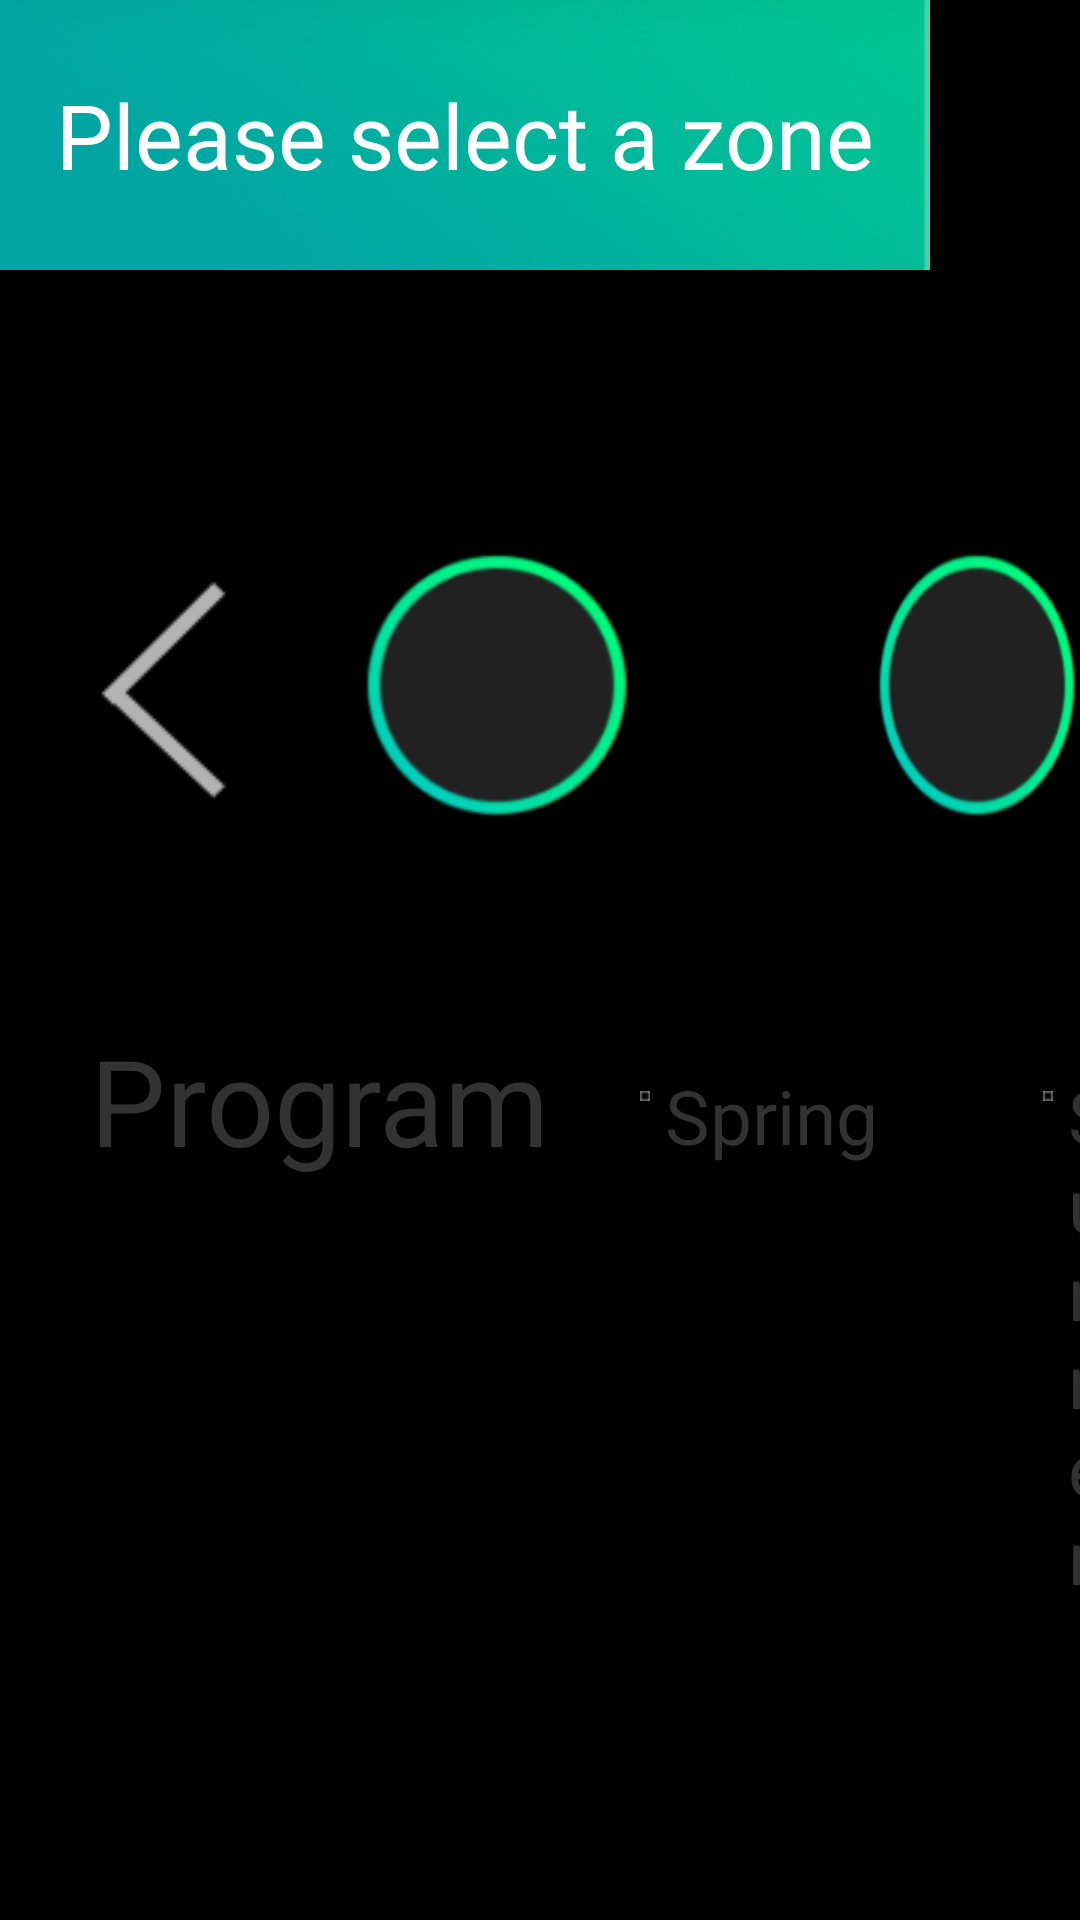

Icons on this 1080w x 1920h Android screen, each with the point to tap as (x=x, y=y):
left page: (x=163, y=690)
